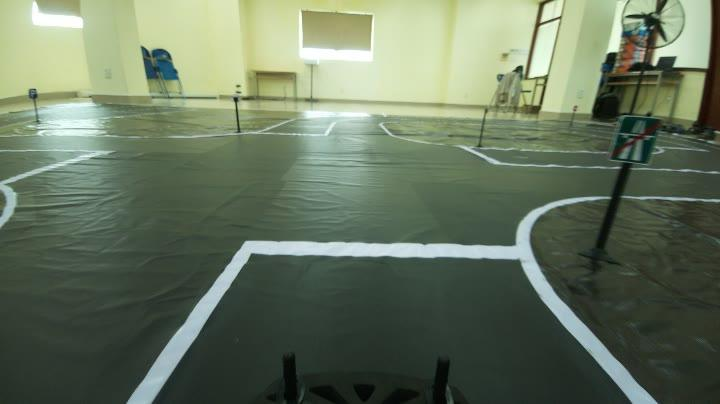highway_exit: (609, 104, 661, 178)
